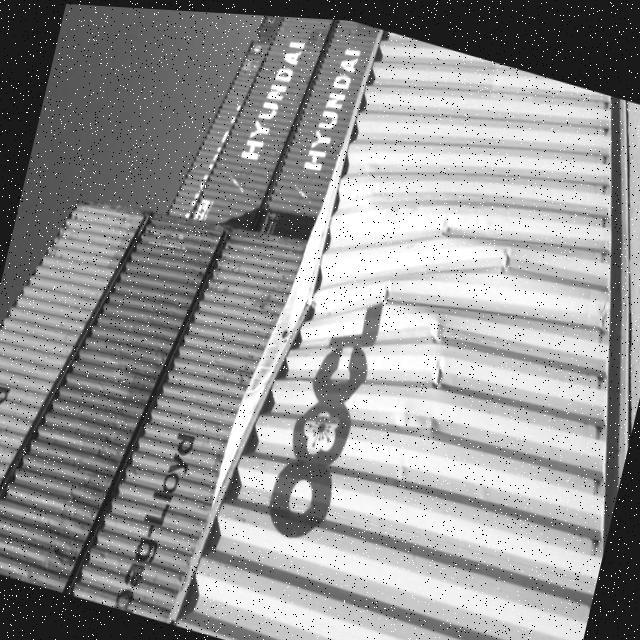dent: (361, 139, 534, 528)
